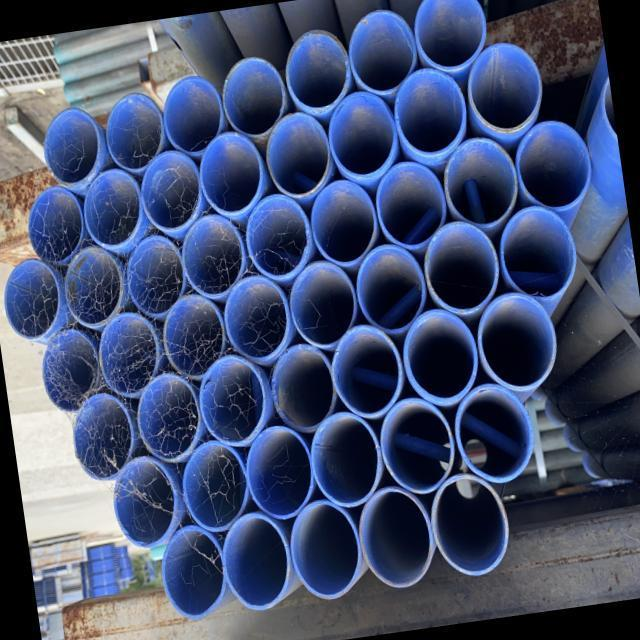pipe: (454, 385, 532, 482), (432, 477, 509, 575), (221, 513, 298, 610), (360, 488, 432, 587), (291, 500, 363, 599), (480, 296, 555, 388), (501, 204, 574, 296), (162, 525, 230, 619), (309, 416, 381, 504), (384, 400, 453, 491), (244, 427, 312, 519), (427, 221, 498, 309), (333, 323, 400, 415), (405, 309, 475, 397), (446, 135, 516, 223), (519, 120, 590, 205), (471, 41, 542, 125), (397, 67, 466, 151), (198, 354, 263, 442), (375, 160, 443, 244), (136, 371, 199, 460), (72, 389, 133, 480), (272, 345, 338, 429), (328, 90, 394, 174), (112, 456, 174, 545), (350, 5, 414, 91), (184, 445, 248, 529), (266, 110, 328, 193), (358, 249, 424, 326), (285, 27, 347, 108), (244, 196, 307, 275), (291, 263, 353, 343), (41, 329, 100, 412), (311, 183, 374, 260), (64, 242, 121, 327), (201, 131, 262, 210), (222, 55, 282, 133), (104, 90, 162, 170), (183, 216, 241, 296), (100, 313, 156, 395), (165, 296, 223, 375), (127, 234, 184, 313), (416, 0, 486, 64), (163, 72, 219, 152), (42, 104, 99, 182), (225, 279, 285, 353), (83, 168, 140, 245), (142, 152, 199, 228), (4, 258, 57, 338), (28, 188, 81, 264)
